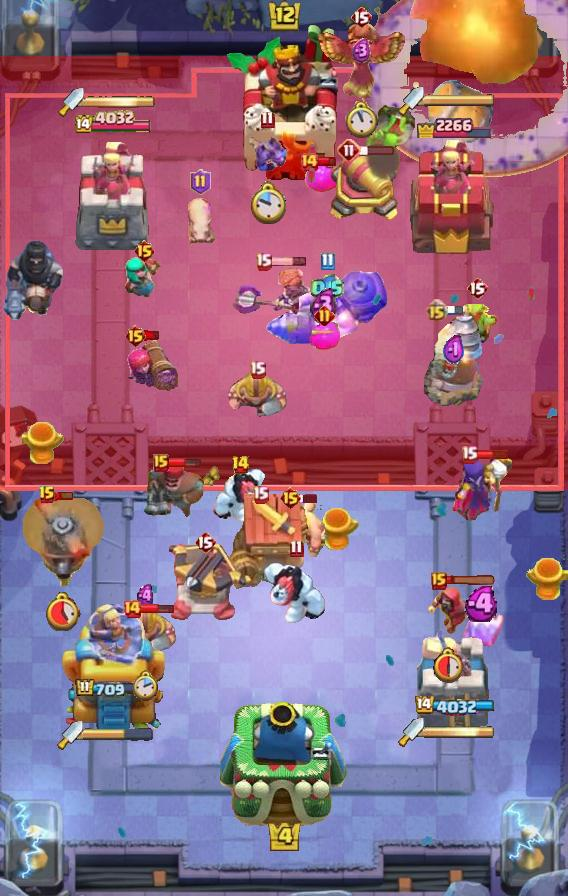archer: (285, 501, 327, 557)
axe: (450, 454, 514, 520)
bar: (59, 595, 169, 731), (409, 138, 497, 256), (73, 140, 155, 256), (414, 623, 492, 731)
bar-level: (362, 104, 416, 152)
bowler: (424, 585, 476, 635)
dark-prince: (15, 498, 109, 586)
dirt: (426, 76, 496, 146)
electro-spirit: (464, 586, 502, 622), (310, 287, 338, 325), (312, 274, 345, 303), (443, 334, 465, 366), (135, 584, 157, 608), (352, 38, 372, 64)
elixir: (249, 182, 287, 227), (43, 591, 81, 631), (345, 101, 379, 139), (433, 645, 467, 682), (133, 670, 159, 702)
emote: (445, 574, 497, 585), (359, 144, 395, 156), (140, 603, 176, 615), (167, 457, 202, 469), (269, 257, 306, 268), (475, 448, 509, 459), (54, 490, 74, 501), (299, 493, 319, 504), (319, 157, 338, 168), (445, 304, 464, 315), (144, 330, 161, 342)
giant: (184, 195, 216, 245)
goblin-giant: (226, 370, 288, 418), (115, 606, 177, 654)
golden-knight: (313, 22, 409, 100)
inferno-dragon: (0, 238, 64, 322)
king-tower: (224, 23, 344, 181), (220, 702, 348, 827)
king-tower-bar: (424, 93, 496, 107), (84, 95, 156, 109), (424, 725, 494, 739), (83, 728, 153, 742)
lava-pup: (164, 544, 246, 624)
magic-archer: (424, 315, 484, 407)
mega-minion: (122, 340, 178, 402)
miner: (305, 165, 345, 193), (308, 320, 340, 350)
mirror: (460, 609, 506, 651)
phoenix-small: (140, 463, 208, 521)
rage: (263, 561, 329, 625), (211, 468, 269, 526)
rocket: (360, 0, 568, 176)
royal-delivery: (247, 130, 287, 178)
royal-recruit: (325, 148, 403, 224)
selected: (74, 110, 154, 136), (414, 112, 492, 138), (75, 677, 153, 699), (414, 695, 495, 716)
sparky: (228, 493, 314, 591)
tesla-evolution: (231, 266, 315, 333)
text: (337, 138, 361, 162), (132, 239, 155, 263), (425, 298, 448, 322), (125, 324, 148, 348), (278, 486, 301, 510), (190, 169, 211, 195), (350, 5, 372, 29), (466, 276, 488, 300), (194, 530, 216, 554), (314, 306, 335, 327), (299, 152, 319, 172), (122, 599, 142, 619), (230, 455, 249, 475), (38, 485, 56, 505), (256, 253, 273, 272), (249, 360, 266, 379), (462, 444, 479, 463), (251, 484, 268, 503), (153, 454, 169, 472), (431, 572, 447, 590), (289, 539, 304, 557), (261, 111, 275, 130), (321, 253, 335, 272)
valkyrie: (396, 0, 552, 94)
witch: (122, 254, 166, 302)
wizard: (265, 270, 389, 348)
zap: (454, 304, 500, 346)
